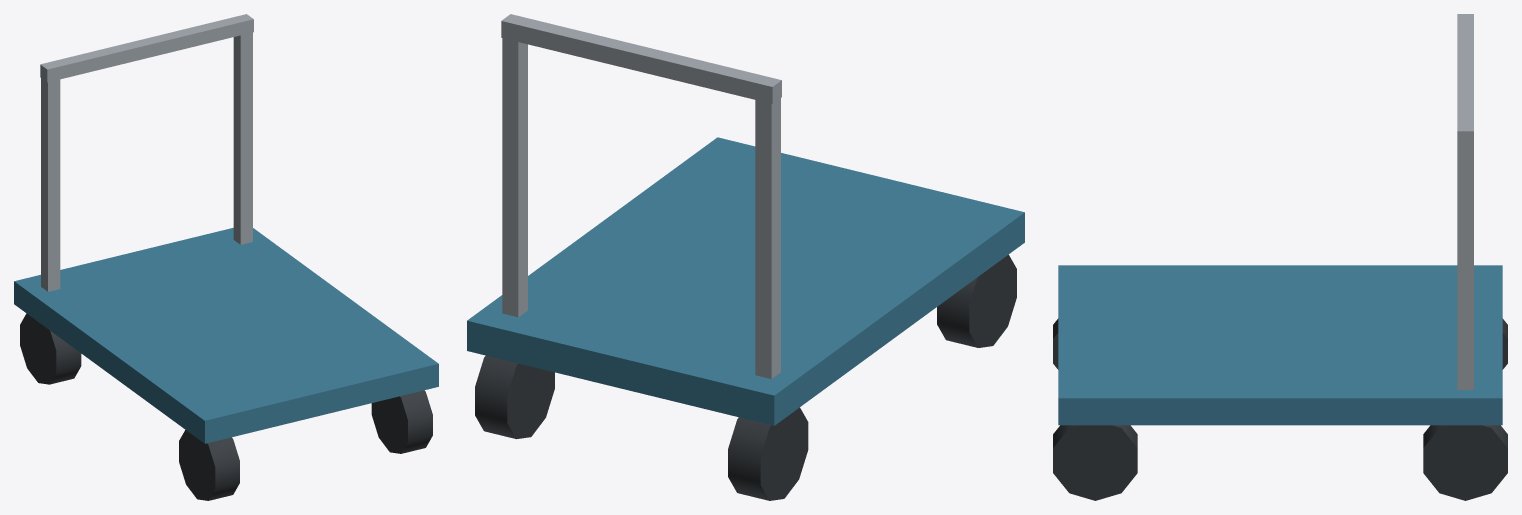
3 renders of one model, left to right at view 1: azimuth 30°, elevation 25°; view 2: azimuth 150°, elevation 25°; view 3: azimuth 270°, elevation 25°, orthographic. The views are drawn at different scales.
Visible parts, largest first — view 1: deck, handle, handlePost0, handlePost1, wheel2, wheel3, wheel0; view 2: deck, handle, handlePost0, handlePost1, wheel0, wheel1, wheel2; view 3: deck, wheel1, wheel3, handlePost1, handle.
Boxes of the visible parts, x1,y1,x2,y2 form: deck: (14,227,438,443); handle: (40,14,253,82); handlePost0: (41,78,60,291); handlePost1: (233,32,252,244); wheel2: (179,430,239,500); wheel3: (371,390,432,453); wheel0: (20,313,81,384); deck: (467,137,1024,425); handle: (501,14,781,103); handlePost0: (755,91,780,378); handlePost1: (502,30,527,317); wheel0: (728,407,808,500); wheel1: (475,355,554,439); wheel2: (937,254,1016,347); deck: (1058,265,1502,425); wheel1: (1423,425,1507,500); wheel3: (1053,425,1137,500); handlePost1: (1457,146,1473,389); handle: (1457,14,1473,146).
Bounding box in the file's own units: 0.85 × 1.09 × 1.23.
